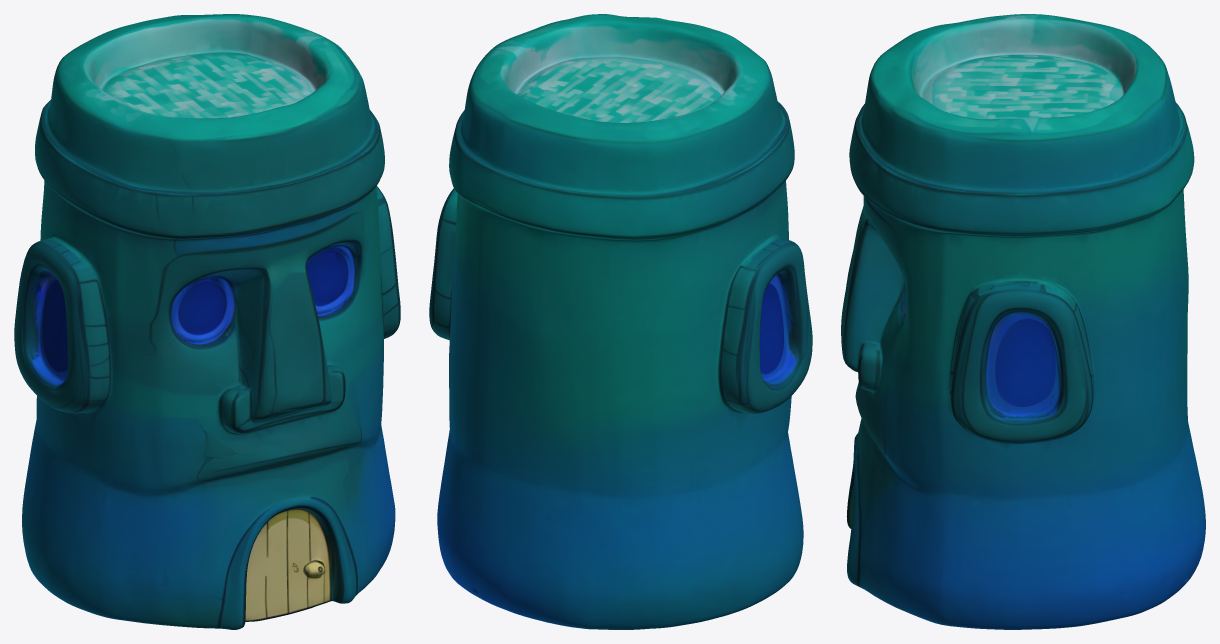
File: squidward-house.glb
The picture shows the model from 3 angles, left to right: view 1: azimuth 30°, elevation 25°; view 2: azimuth 150°, elevation 25°; view 3: azimuth 270°, elevation 25°; orthographic projection.
Parts seen in each view (by area): view 1: textured; view 2: textured; view 3: textured.
Part boxes in pixels (left/top/right/bottom): textured: left=14, top=14, right=400, bottom=629; textured: left=429, top=14, right=812, bottom=629; textured: left=841, top=14, right=1205, bottom=629.
Bounding box in the file's own units: 1.42 × 2 × 1.35.
Materials: 1 (1 with a texture image).
